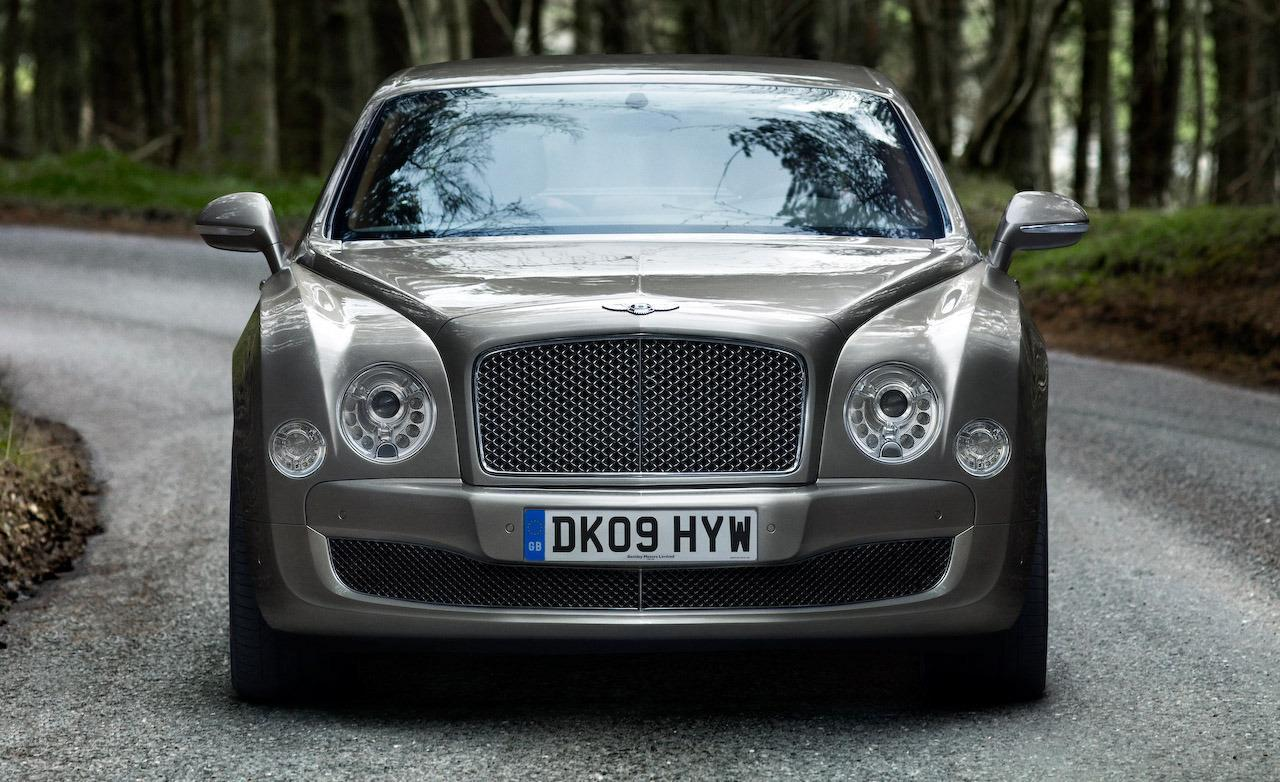Car: (157, 26, 1114, 729)
